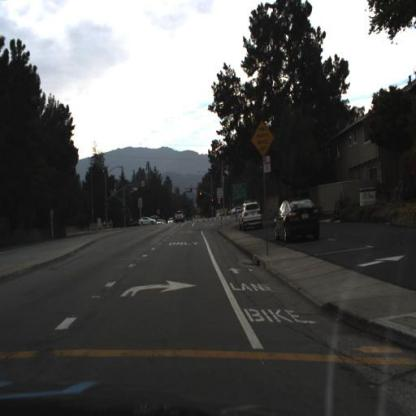car: (274, 199, 321, 243), (240, 204, 264, 233), (136, 213, 158, 229), (174, 206, 185, 224)
